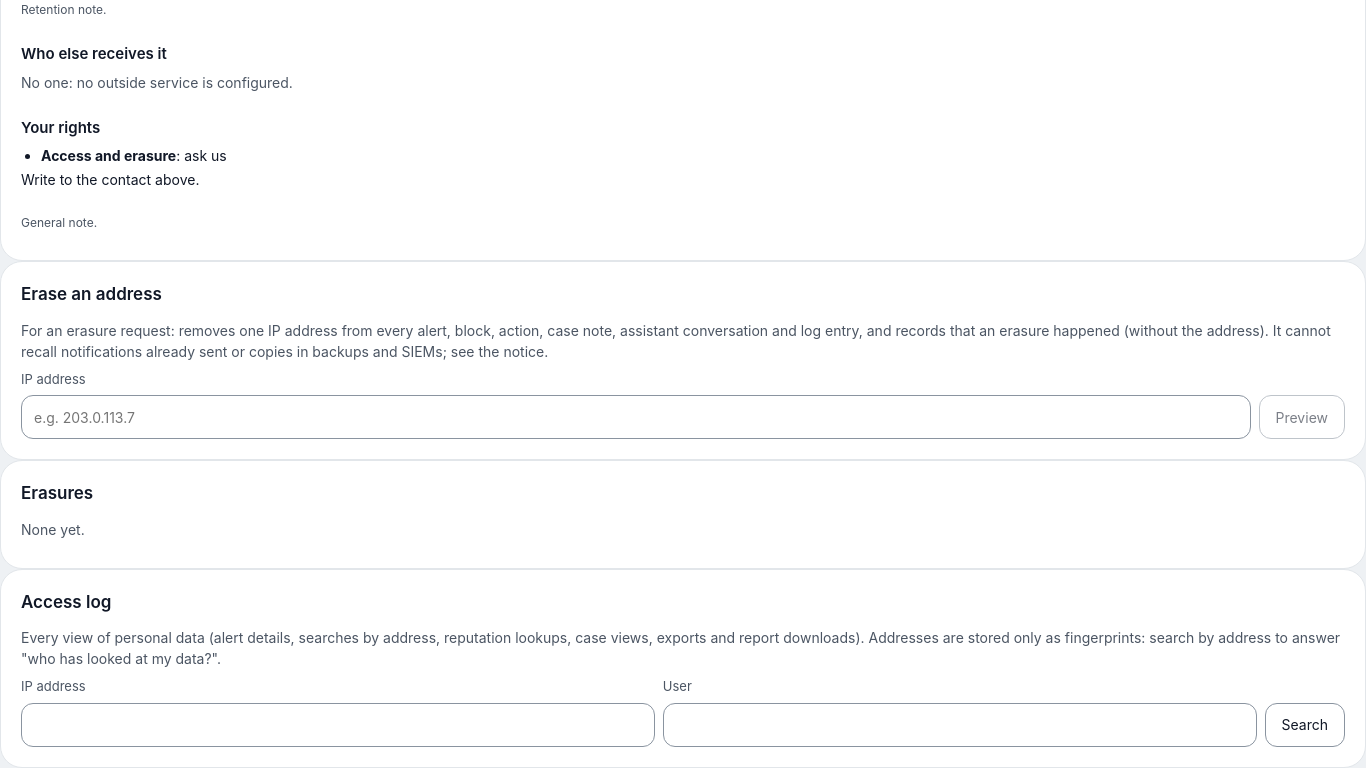
Scenario: Erase › previews with the trimmed address and lists non-zero counts
(page scrolled)
Type "  203.0.113.7 " into the field labelled "IP address" below "Erase an address". click: (636, 417)
box: [21,395,1250,439]
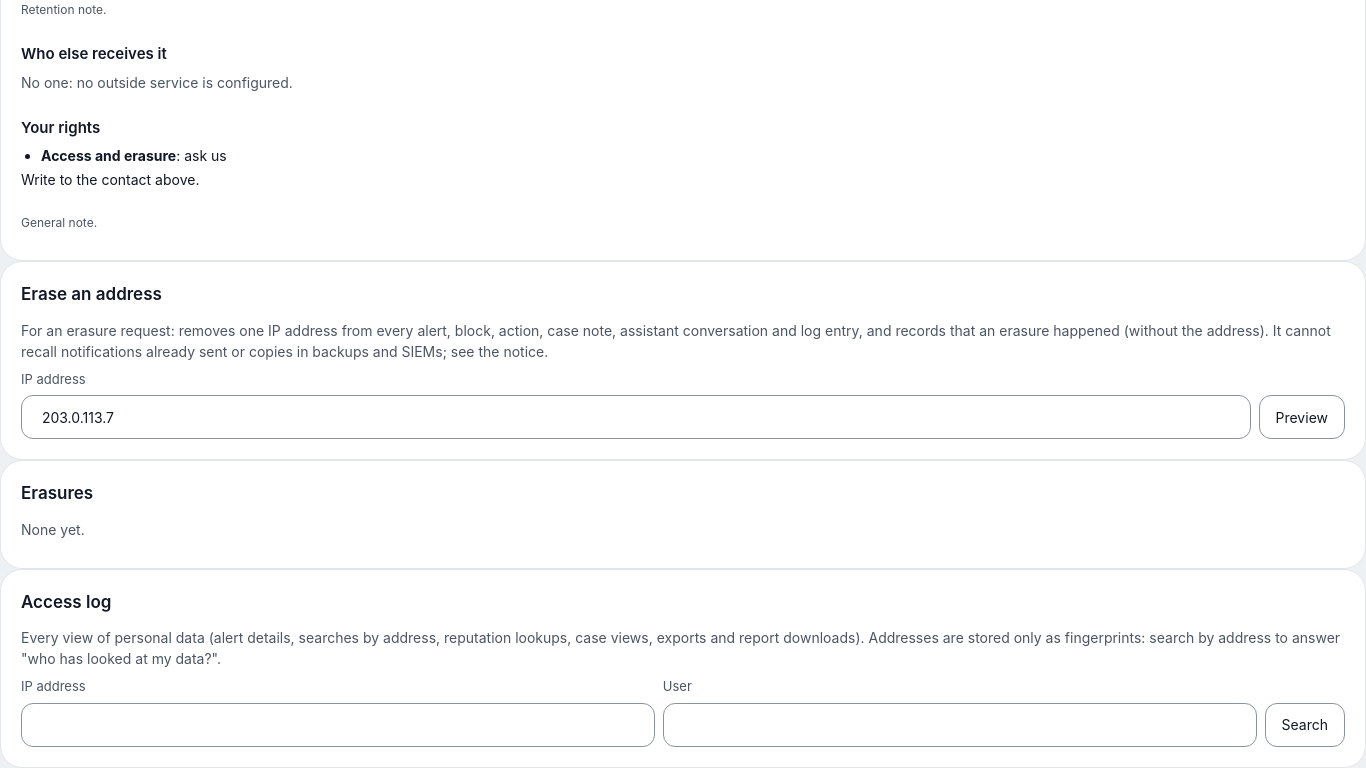
Click the button "Preview". click: (1302, 417)
box: [1258,395,1345,439]
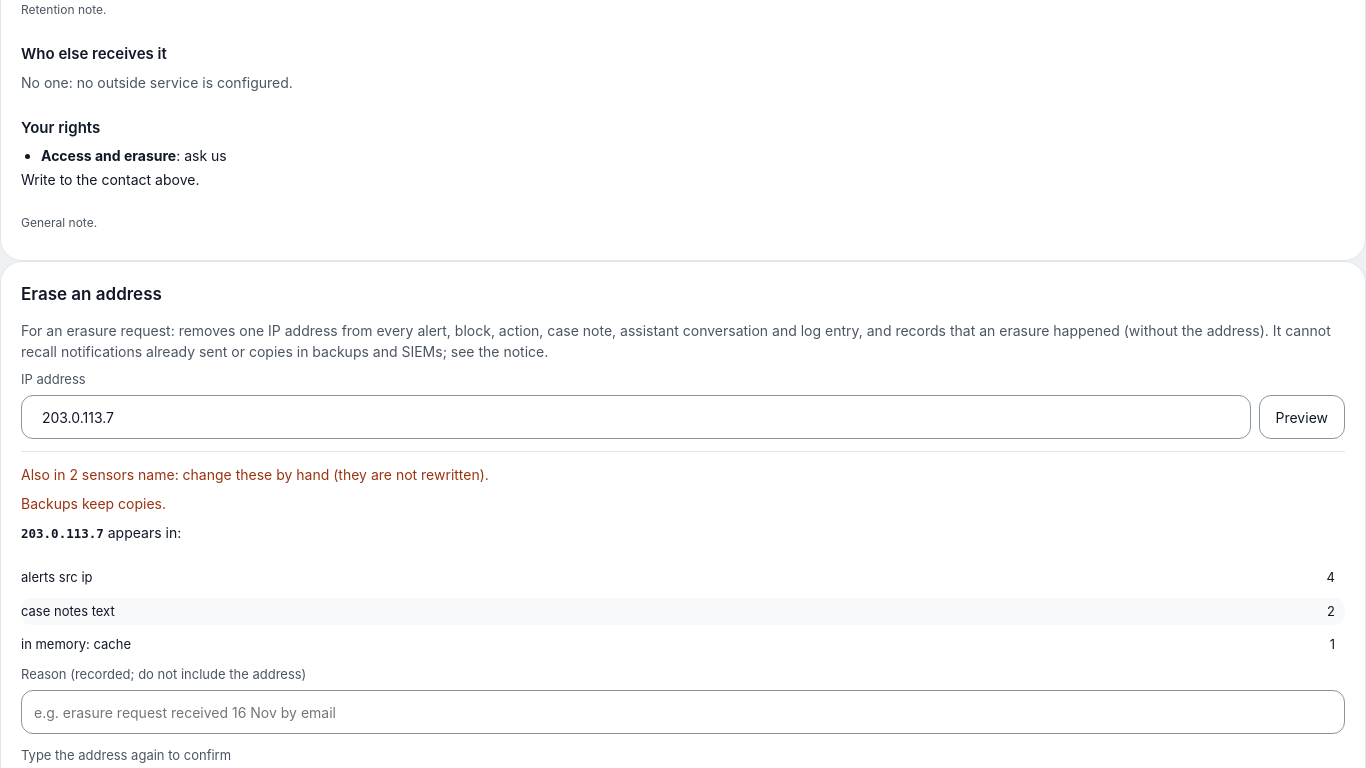
expect the text "appears in:" is shown: met, box [104,524,181,541]
expect the text "alerts src ip" is shown: met, box [21,564,1169,592]
expect the text "case notes text" is shown: met, box [21,598,1169,625]
